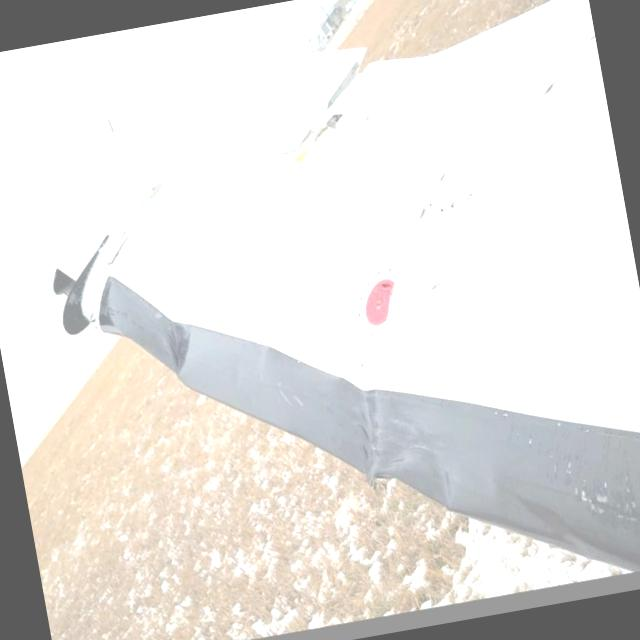crack: (261, 52, 397, 184), (476, 44, 613, 162), (404, 133, 482, 234)
